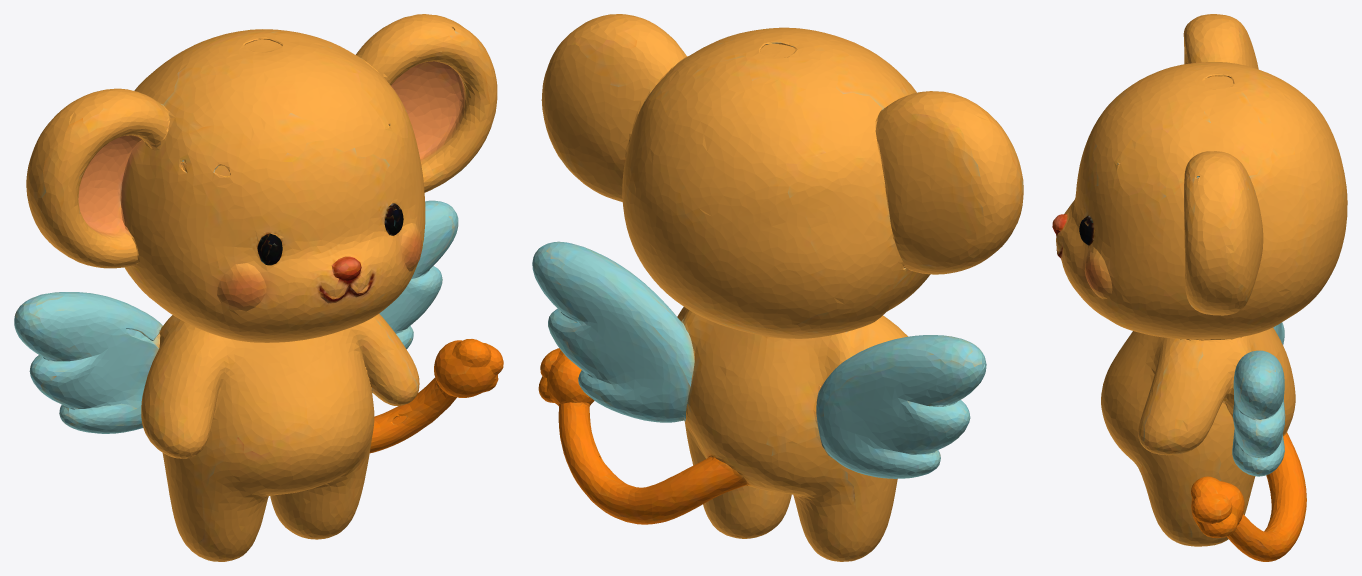
Rendered from AnimePistol_Textured_00099_.glb.
3 renders of one model, left to right at view 1: azimuth 30°, elevation 25°; view 2: azimuth 150°, elevation 25°; view 3: azimuth 270°, elevation 25°, orthographic. The views are drawn at different scales.
Visible parts, largest first — view 1: world; view 2: world; view 3: world.
Part boxes in pixels (x1,y1,x2,y2): world: (14,14,503,561); world: (532,14,1023,561); world: (1052,14,1347,561).
Size of the model in its own units: 0.9936 by 1 by 0.6035.
Materials: 1 (1 with a texture image).
